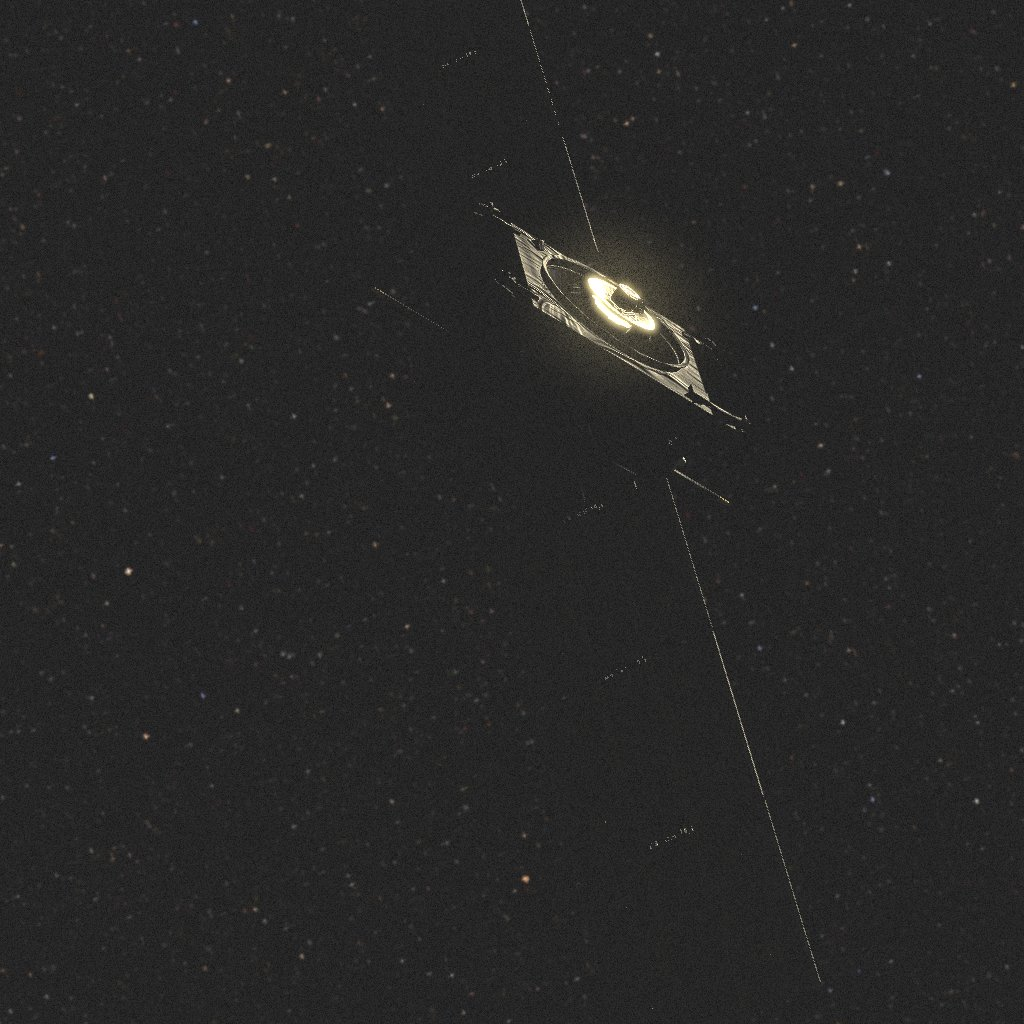smart_1: (365, 0, 821, 1024)
